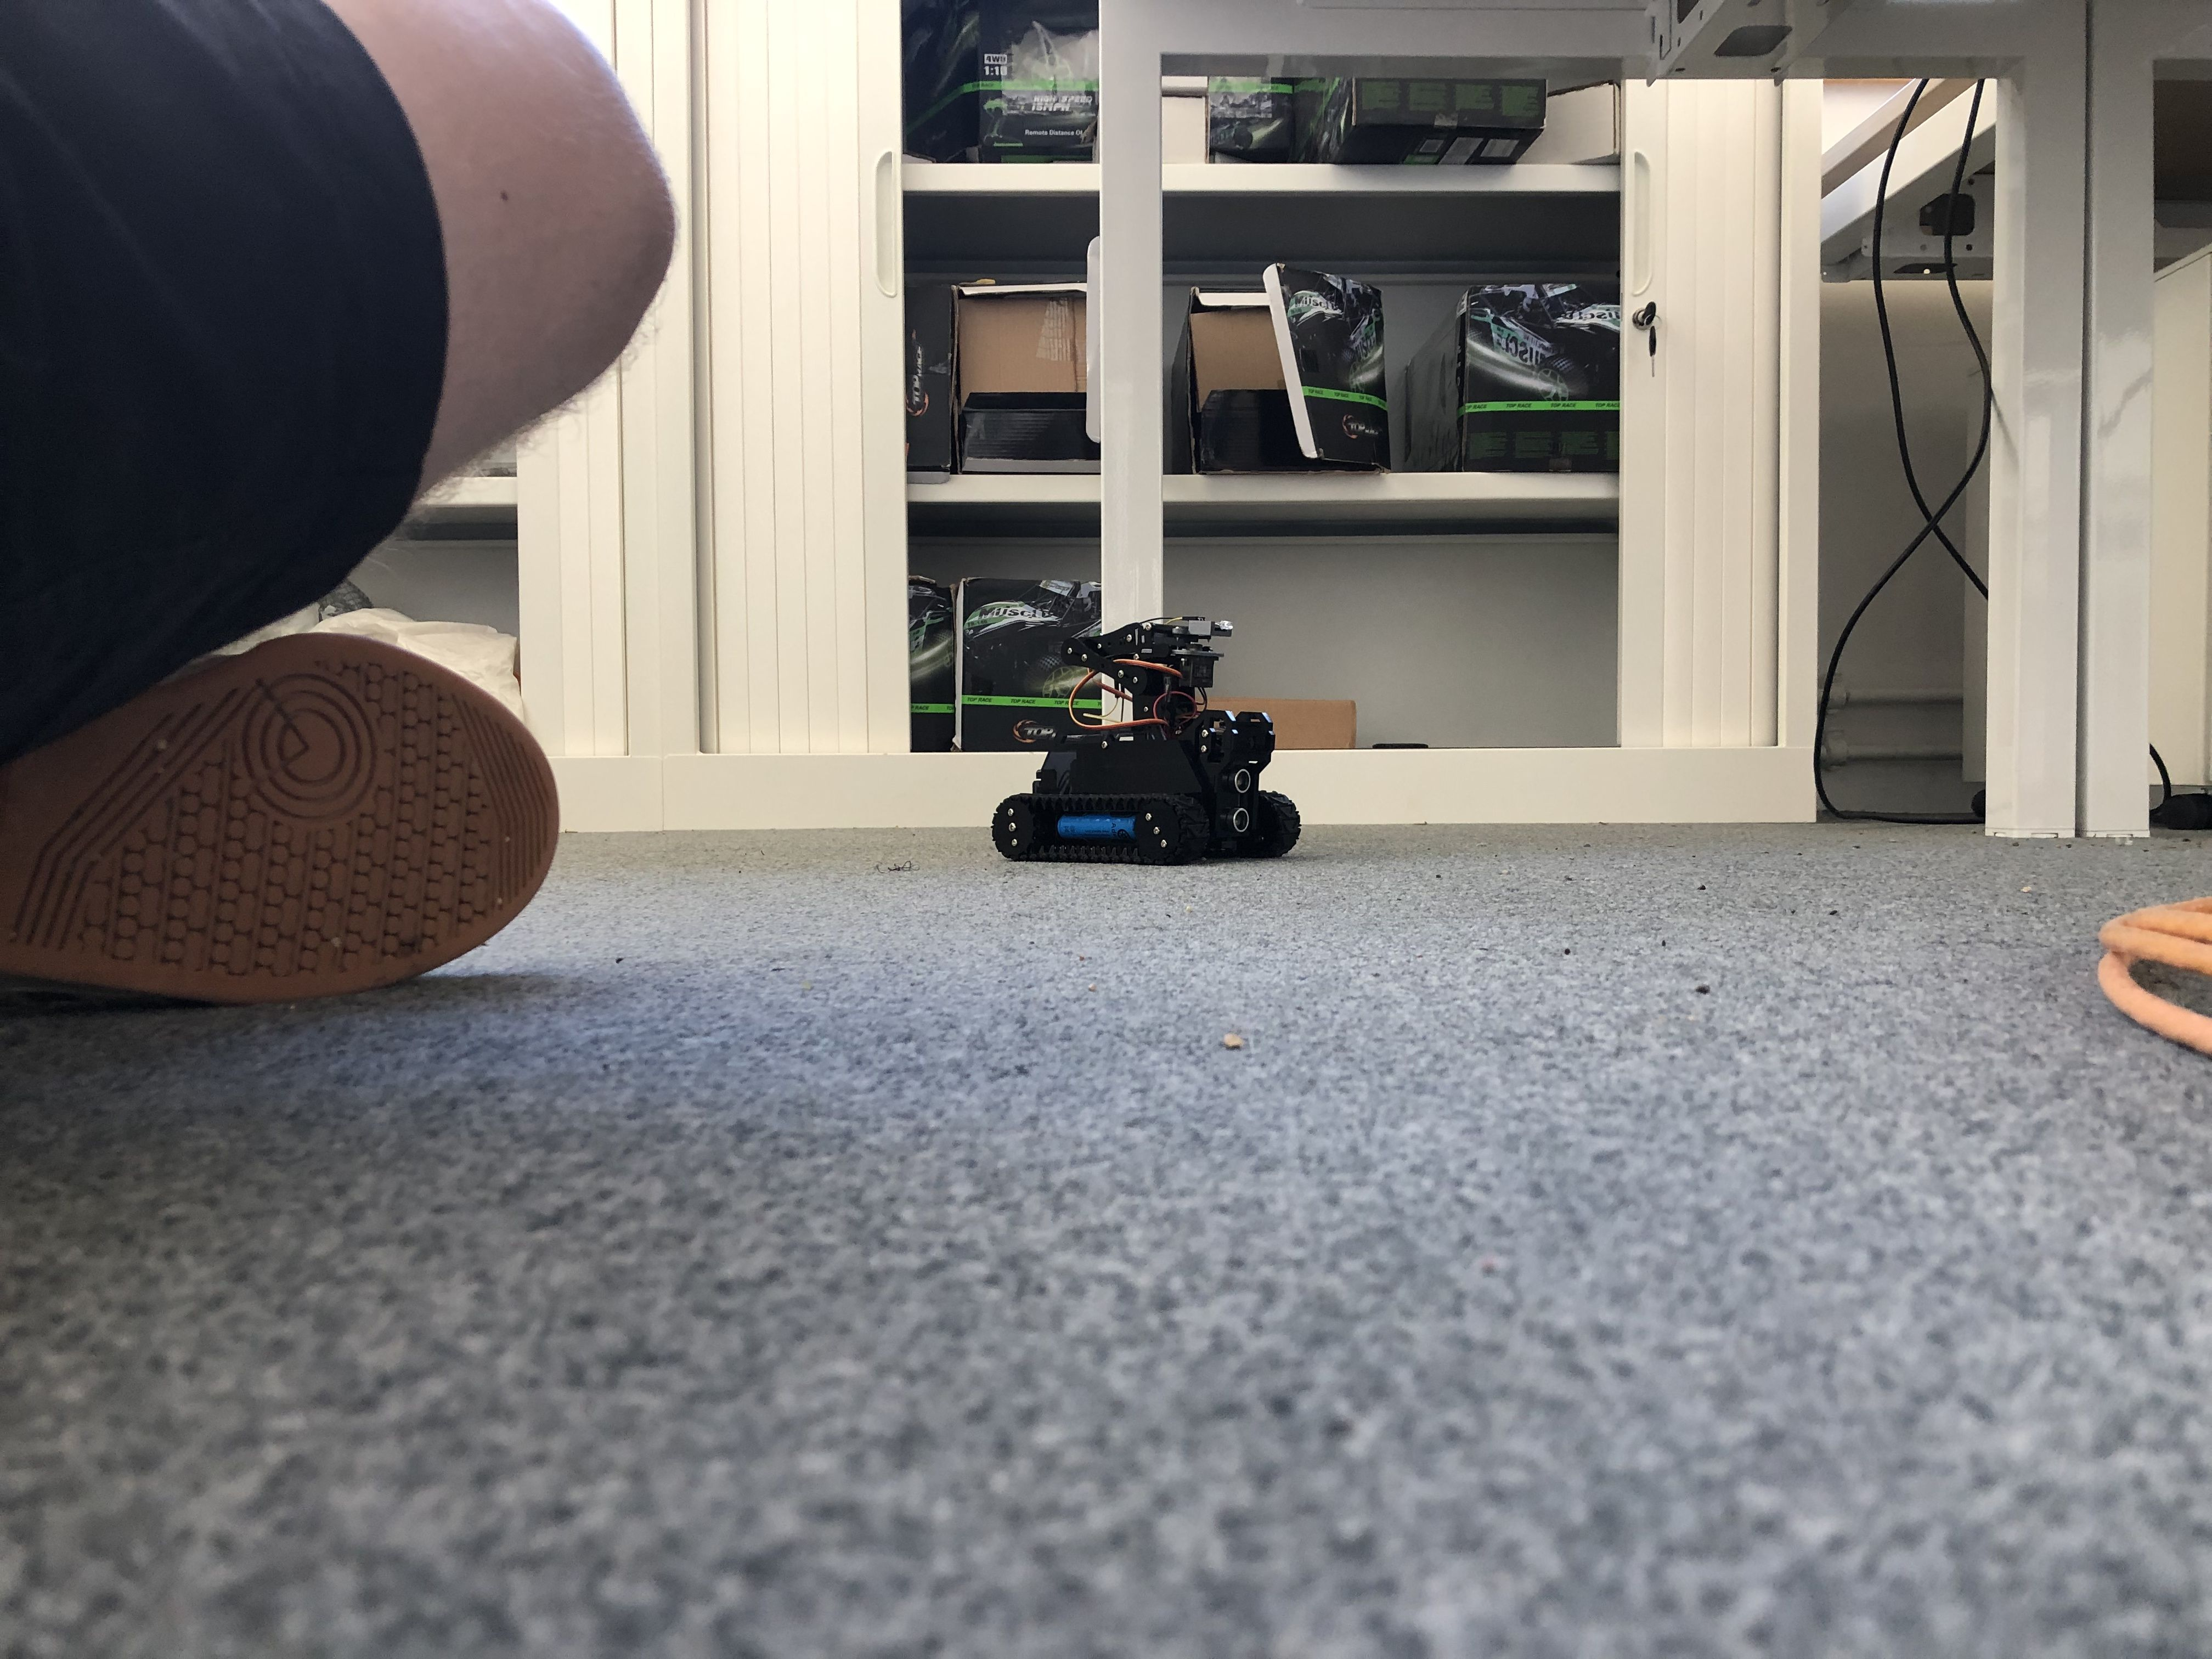rasptank: (991, 613, 1303, 870)
